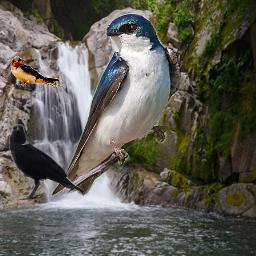Crow: (8, 124, 85, 200)
Swallow: (51, 11, 182, 198), (10, 56, 66, 90)
